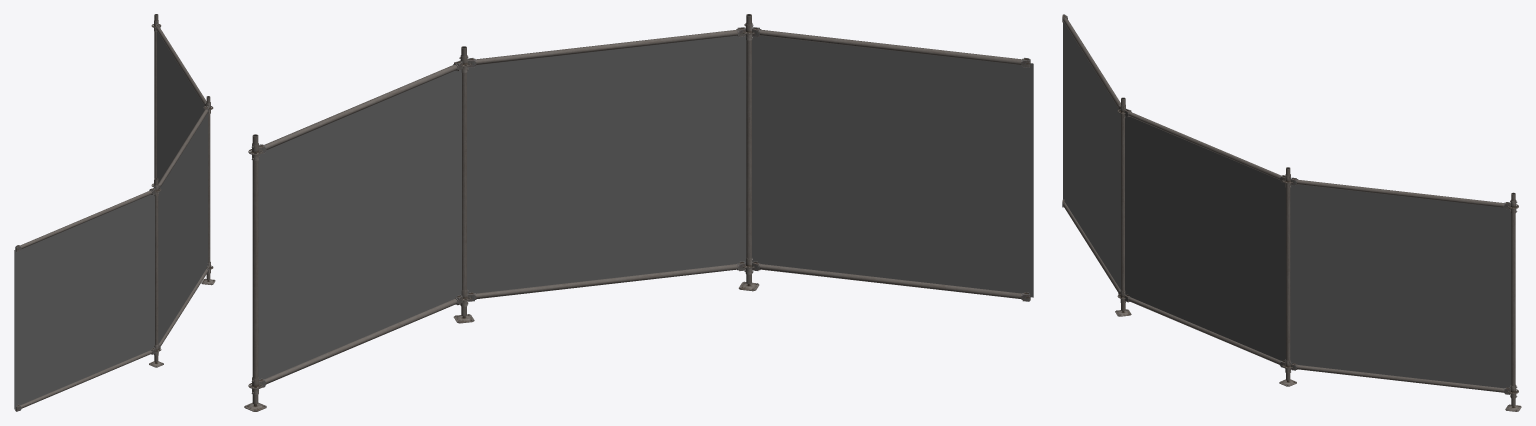
File: scaffold_foot_turnr_192x192.fbx
3 views of the same model, side by side, from view 1: azimuth 30°, elevation 25°; view 2: azimuth 150°, elevation 25°; view 3: azimuth 270°, elevation 25° (orthographic). The views are drawn at different scales.
Parts seen in each view (by area): view 1: scaffold_foot_turnR_192x192; view 2: scaffold_foot_turnR_192x192; view 3: scaffold_foot_turnR_192x192.
Boxes of the visible parts, x1,y1,x2,y2 form: scaffold_foot_turnR_192x192: [14, 14, 215, 411]; scaffold_foot_turnR_192x192: [244, 14, 1033, 411]; scaffold_foot_turnR_192x192: [1062, 14, 1521, 411].
Bounding box in the file's own units: 391 × 202 × 392.
